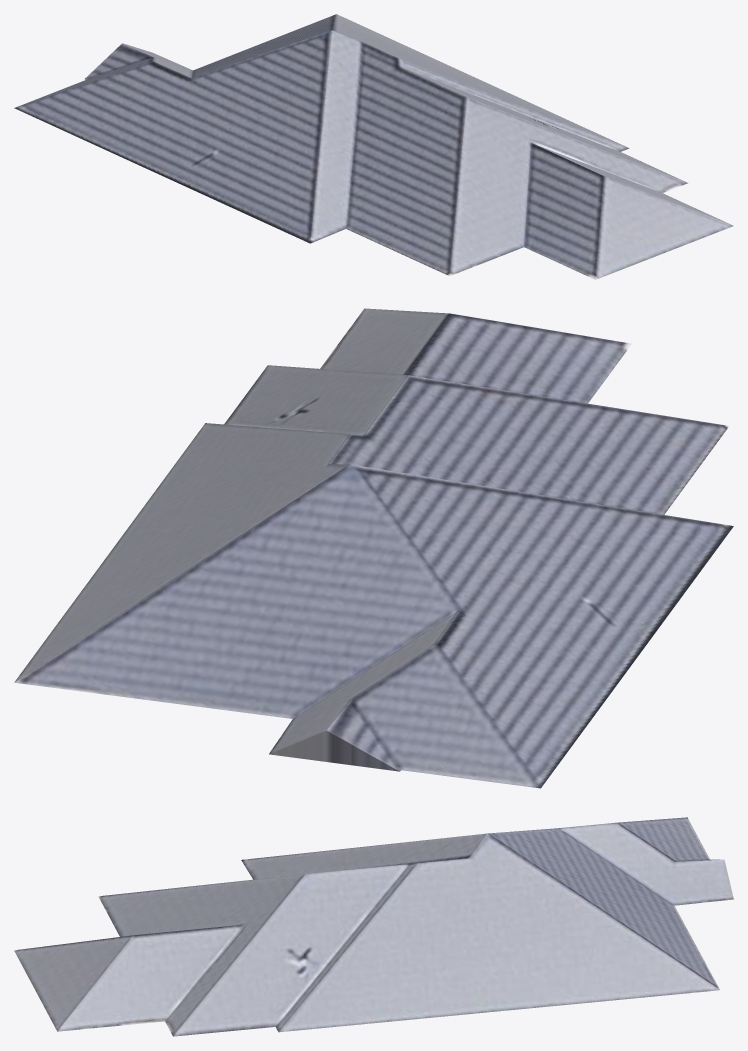
The model's file is BK39_500_013030_0019_roof.obj.
3 renders of one model, top to bottom at view 1: azimuth 30°, elevation 25°; view 2: azimuth 150°, elevation 25°; view 3: azimuth 270°, elevation 25°, orthographic. The views are drawn at different scales.
Parts seen in each view (by area): view 1: BK39_500_013030_0019_roof; view 2: BK39_500_013030_0019_roof; view 3: BK39_500_013030_0019_roof.
Boxes of the visible parts, x1,y1,x2,y2 form: BK39_500_013030_0019_roof: [14, 14, 733, 279]; BK39_500_013030_0019_roof: [14, 308, 733, 788]; BK39_500_013030_0019_roof: [14, 817, 733, 1036].
Bounding box in the file's own units: 337 × 70 × 467.
1 material, 1 textured.
